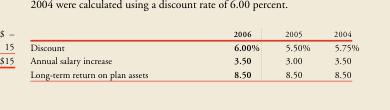table: (29, 28, 358, 79)
table column: (29, 28, 190, 79), (190, 28, 271, 79), (271, 28, 321, 79), (321, 28, 358, 79)
table column header: (29, 28, 358, 39)
table row: (29, 39, 358, 53), (29, 53, 358, 67), (29, 67, 358, 79), (29, 28, 358, 39)
